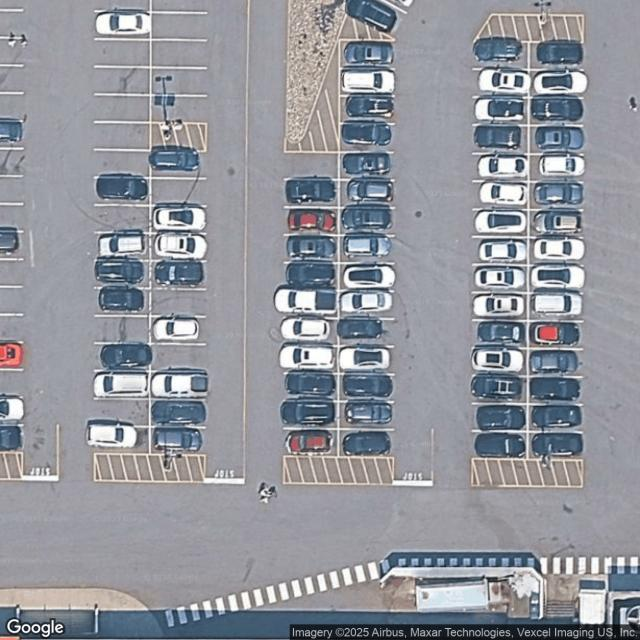car: (151, 367, 210, 397), (275, 286, 336, 314), (346, 0, 397, 33), (100, 342, 154, 370), (95, 173, 148, 201), (280, 398, 334, 425), (154, 232, 208, 259), (95, 10, 151, 36), (533, 96, 583, 125), (279, 343, 334, 369), (533, 69, 588, 95), (152, 204, 206, 230), (148, 146, 202, 172), (477, 67, 530, 93), (94, 371, 149, 396), (87, 423, 136, 451), (343, 264, 395, 290), (285, 261, 337, 287), (471, 374, 523, 400), (284, 370, 336, 396), (285, 177, 337, 203), (474, 432, 526, 458), (151, 400, 207, 424), (534, 266, 585, 292), (531, 290, 582, 316), (279, 316, 334, 340), (342, 68, 394, 93), (94, 258, 144, 284), (154, 260, 204, 286), (531, 432, 583, 457), (152, 427, 204, 452), (98, 230, 146, 257), (474, 96, 525, 121), (341, 289, 390, 315), (338, 346, 391, 370), (341, 121, 391, 146), (476, 405, 526, 430), (342, 373, 392, 398), (474, 37, 524, 62), (536, 237, 584, 263), (474, 209, 526, 233), (342, 205, 391, 230), (475, 266, 526, 290), (156, 315, 201, 342), (536, 211, 584, 236), (478, 154, 528, 178), (536, 40, 584, 65), (286, 209, 336, 233), (532, 349, 578, 375), (286, 235, 338, 258), (529, 377, 581, 400), (536, 184, 583, 209), (342, 431, 389, 456), (98, 287, 145, 312), (531, 405, 582, 428), (346, 178, 394, 202), (286, 430, 334, 454), (343, 235, 389, 260), (478, 181, 528, 204), (344, 42, 394, 65), (530, 322, 580, 345), (473, 294, 525, 316), (474, 125, 523, 148), (342, 152, 391, 175), (344, 401, 393, 424), (345, 95, 394, 118), (338, 316, 381, 342), (538, 129, 584, 153), (476, 321, 526, 343), (480, 238, 525, 262), (475, 349, 518, 373), (540, 156, 583, 180), (0, 425, 24, 454), (1, 117, 26, 143), (0, 398, 24, 425), (0, 342, 24, 368), (1, 226, 20, 254), (382, 0, 416, 9)
lot_boundary: (0, 1, 587, 489)
